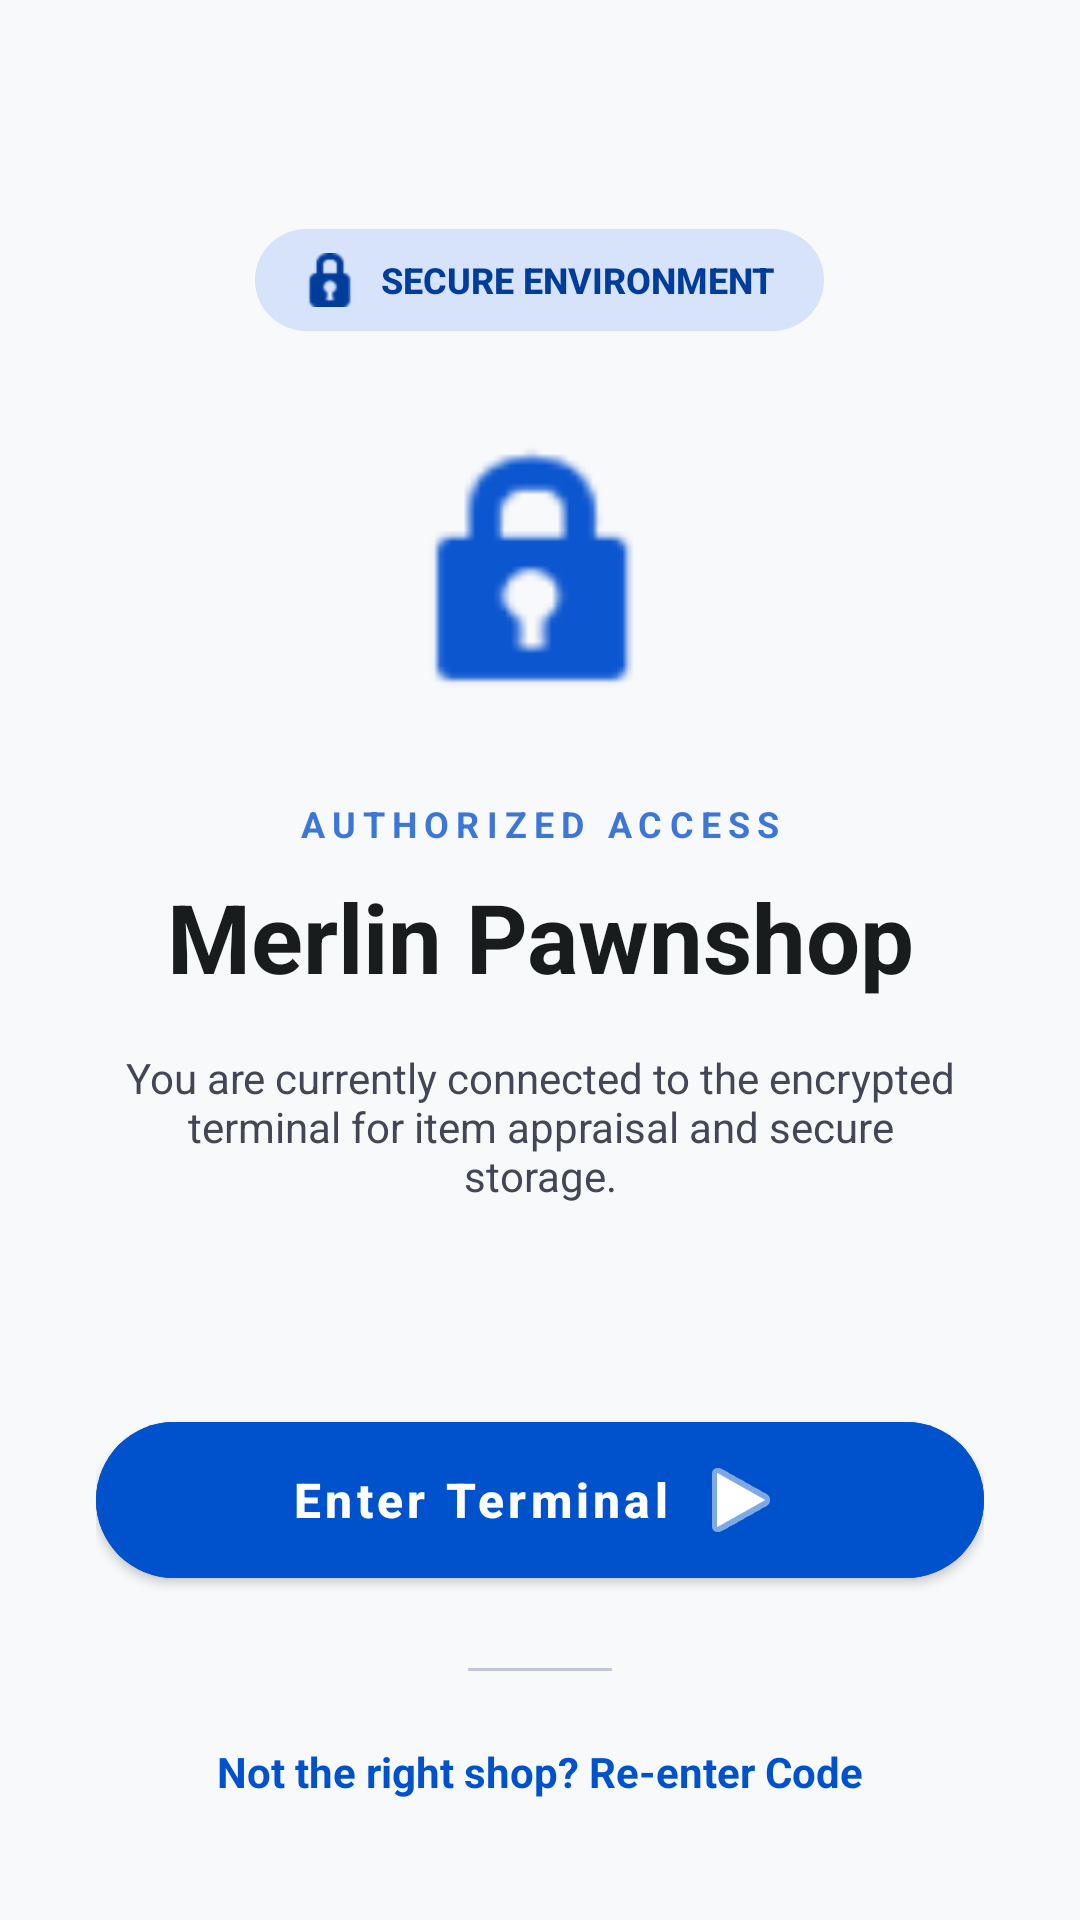

Icon bounding boxes for this 1080x1920 phone screenshot, format (x1, y1, x2, y2):
lock idle: (434, 451, 632, 683)
